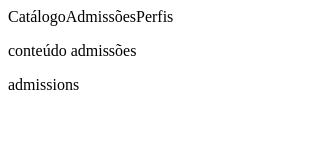
Test case: Tabs › works as a controlled component
The width and height of the screenshot is (320, 160).
Click the tab "Perfis".
click(155, 17)  # box [136,8,173,26]
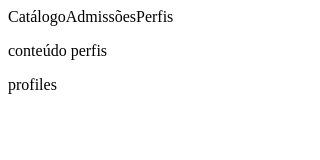
Result: the text with test id "current" reads "profiles" at [8,76,57,93]
